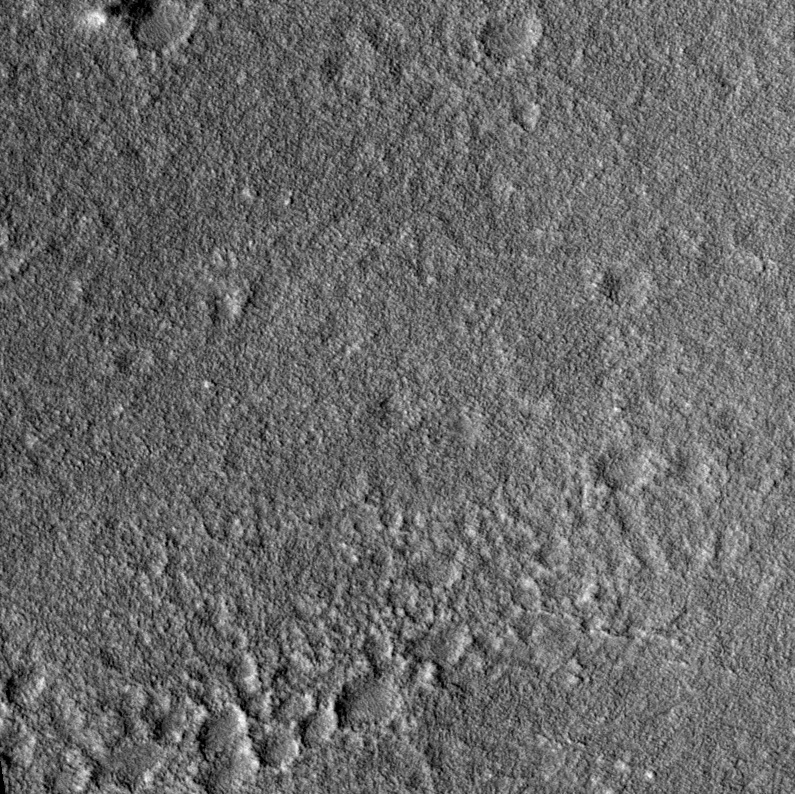dust_devil: (84, 1, 163, 27)
